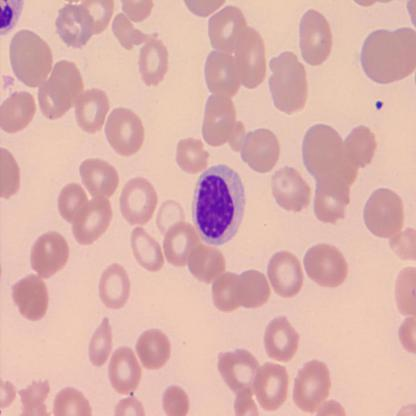Metamyelocyte: (191, 162, 248, 246)
